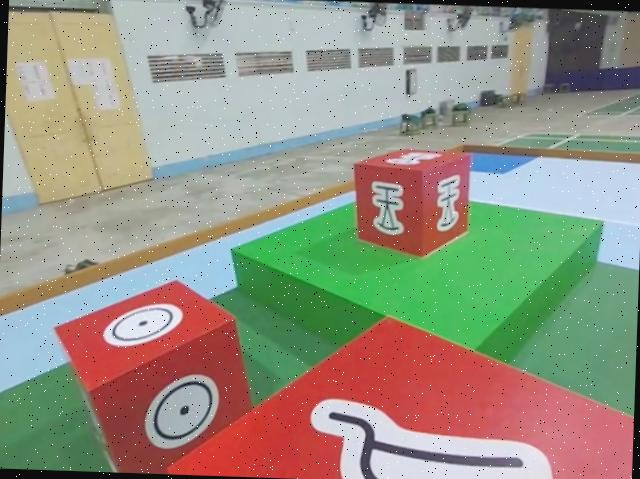R2 Real: (163, 303, 637, 479), (46, 271, 260, 477), (347, 141, 473, 260)
